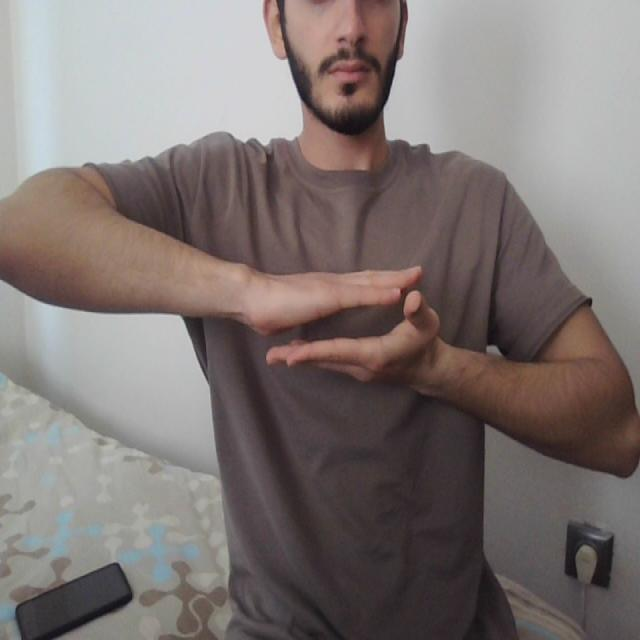Arkadas: (200, 229, 553, 418)
